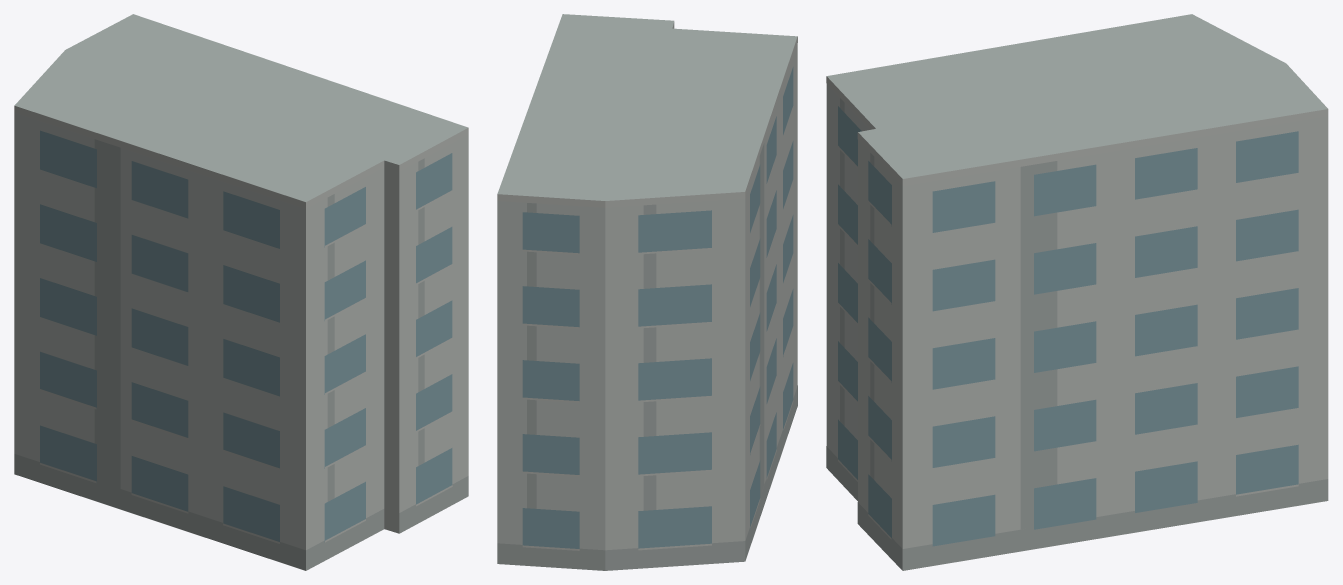
File: survey-upis-32893741.glb
3 views of the same model, side by side, from view 1: azimuth 30°, elevation 25°; view 2: azimuth 150°, elevation 25°; view 3: azimuth 270°, elevation 25° (orthographic). The views are drawn at different scales.
Visible parts, largest first — view 1: survey-upis-32893741.tmp; view 2: survey-upis-32893741.tmp; view 3: survey-upis-32893741.tmp.
Boxes of the visible parts, x1,y1,x2,y2 form: survey-upis-32893741.tmp: (14, 14, 468, 570); survey-upis-32893741.tmp: (497, 14, 797, 570); survey-upis-32893741.tmp: (826, 14, 1328, 570).
Size of the model in its own units: 11.93 by 13.2 by 15.33.
